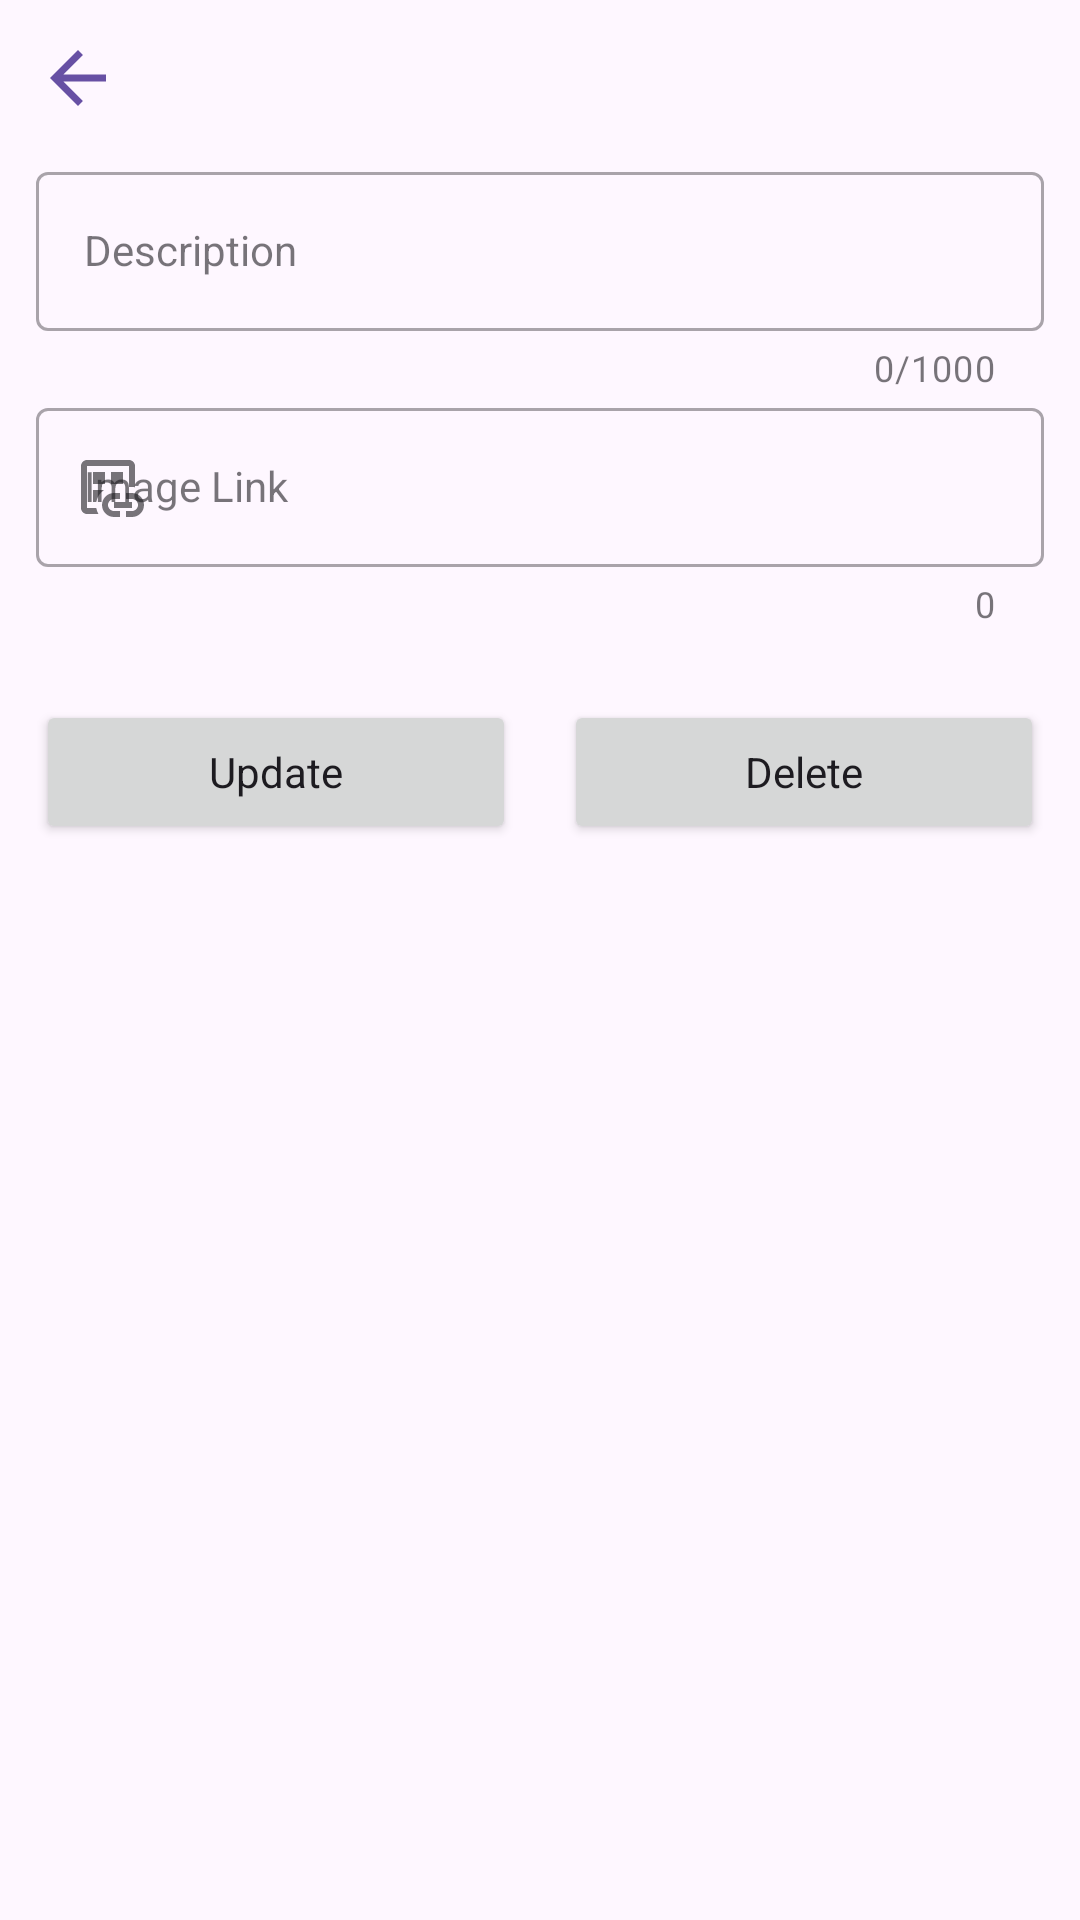

Icons on this 1080w x 1920h Android screen, each with its box as (x1, y1, x2, y2):
arrow back: (50, 50, 106, 106)
